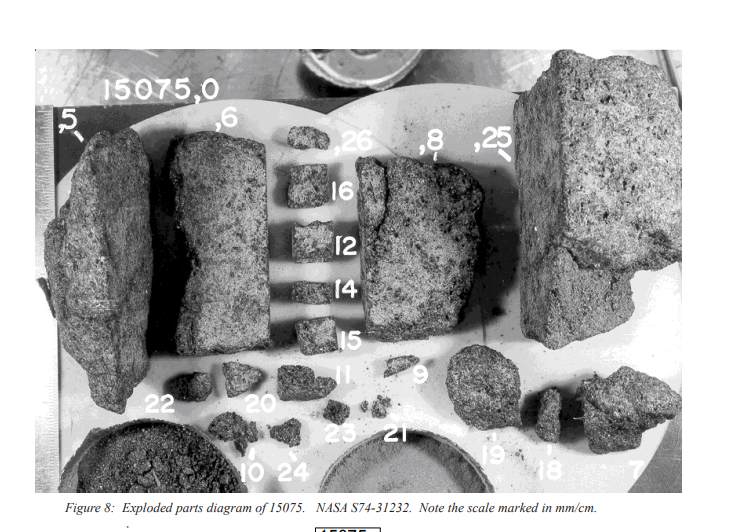Basalt: (515, 45, 678, 342), (45, 140, 156, 411), (162, 125, 286, 359), (354, 157, 486, 335), (534, 382, 679, 449), (434, 342, 526, 425)
